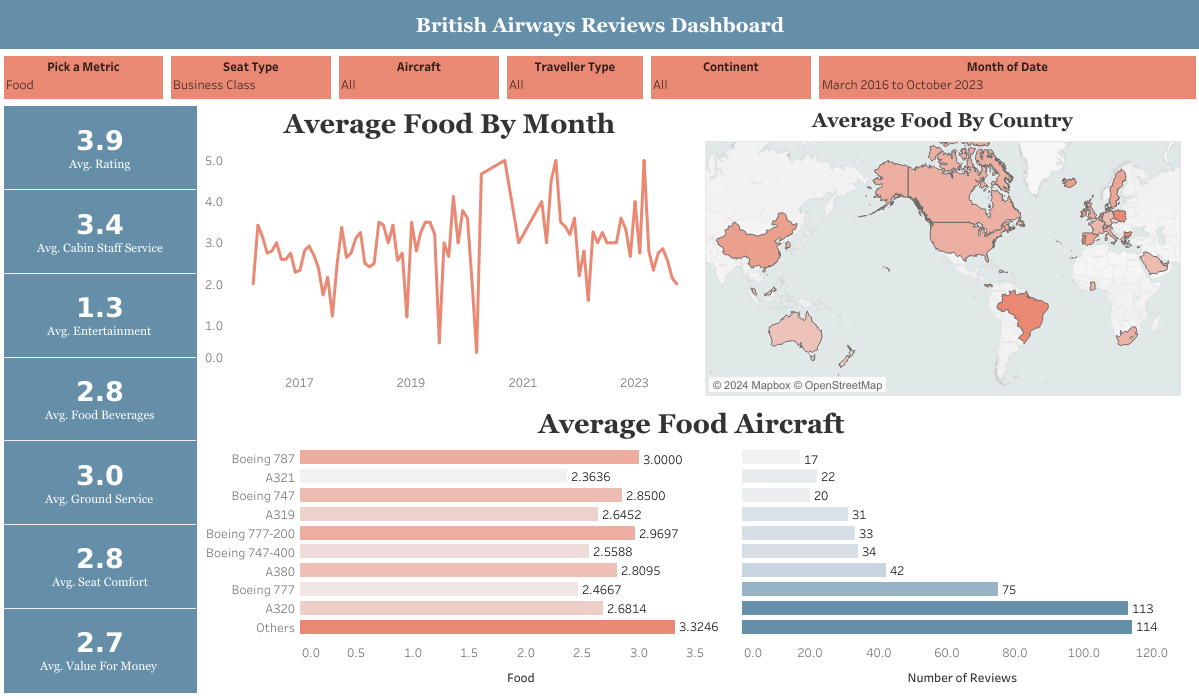

What the dashboard file says about the page in this screenshot:
{"tool":"tableau","page":{"name":"Reviews Dashboard","canvas":[1200,700],"ordinal":0},"visuals":[{"type":"text","box":[0,0,1201,49]},{"type":"parameter","param":"[Parameters].[Parameter 1]","box":[0,52,167,51]},{"type":"filter","title":"Map","param":"[federated.1itph321yrrc4t1eqm44c0s1dhhc].[none:seat_type:nk]","box":[167,52,168,51]},{"type":"filter","title":"Map","param":"[federated.1itph321yrrc4t1eqm44c0s1dhhc].[Aircraft (group)]","box":[335,52,168,51]},{"type":"filter","title":"Map","param":"[federated.1itph321yrrc4t1eqm44c0s1dhhc].[none:traveller_type:nk]","box":[503,52,144,51]},{"type":"filter","title":"Map","param":"[federated.1itph321yrrc4t1eqm44c0s1dhhc].[none:Continent:nk]","box":[647,52,168,51]},{"type":"filter","title":"Map","param":"[federated.1itph321yrrc4t1eqm44c0s1dhhc].[tmn:date:qk]","box":[815,52,385,51]},{"type":"worksheet","title":"Summary","mark":"Automatic","box":[0,102,200,594]},{"type":"worksheet","title":"Month","mark":"Automatic","rows":["Calculation_660058880168886272"],"cols":["date"],"box":[200,102,499,294]},{"type":"worksheet","title":"Map","mark":"Automatic","box":[705,102,476,294]},{"type":"worksheet","title":"Aircraft","mark":"Automatic","cols":["Calculation_660058880168886272","ba_reviews.csv_726C937E0F5B4722A5E0C0ED0CE0EC3E"],"box":[200,402,983,291]}]}

Visuals, with their boxes in screenshot pixels (x1, y1, x2, y2), scaled from the page's 1200x700 canvas onto the 1199x699 screenshot:
text: 0:0:1198:49
parameter: 0:52:167:103
"Map" filter: 167:52:335:103
"Map" filter: 335:52:503:103
"Map" filter: 503:52:646:103
"Map" filter: 646:52:814:103
"Map" filter: 814:52:1198:103
"Summary" worksheet: 0:102:200:695
"Month" worksheet: 200:102:698:395
"Map" worksheet: 704:102:1180:395
"Aircraft" worksheet: 200:401:1182:692
